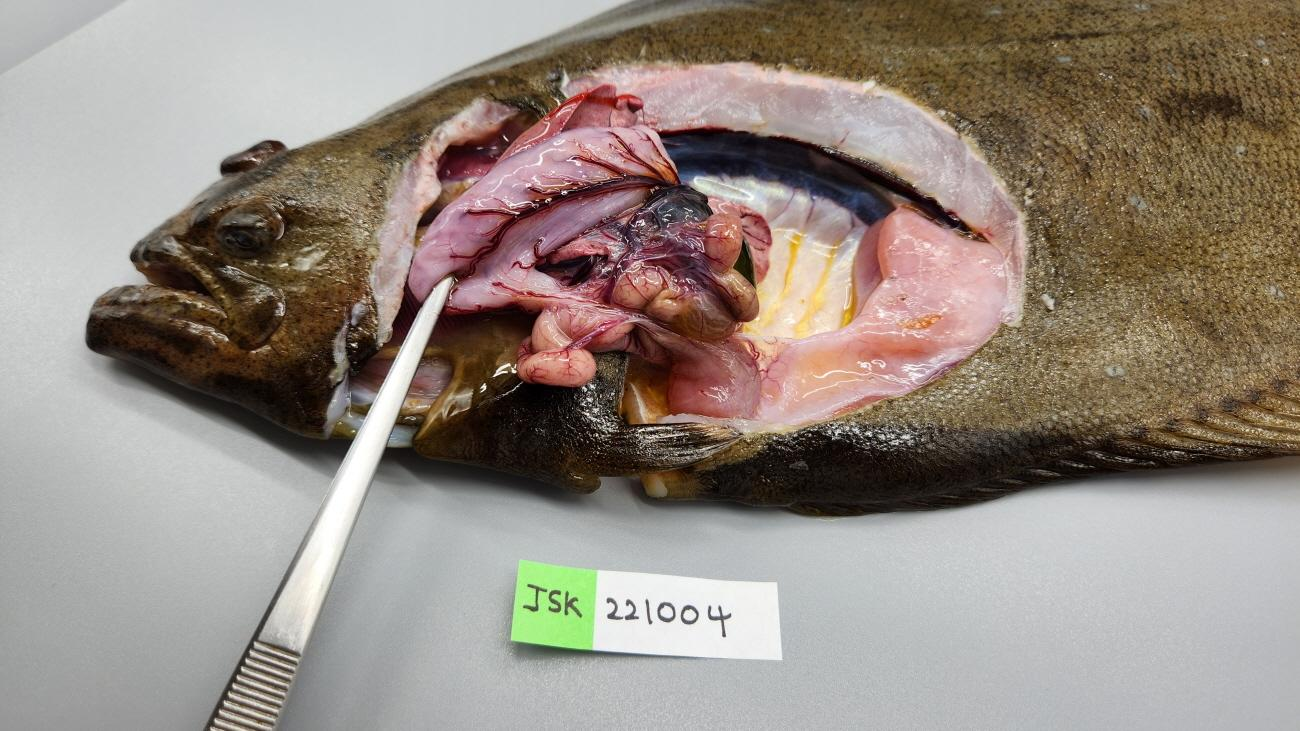POINN: (518, 210, 758, 386)
POSPN: (646, 186, 712, 227)
